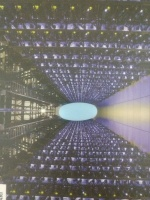Apranax: (58, 101, 100, 122)
